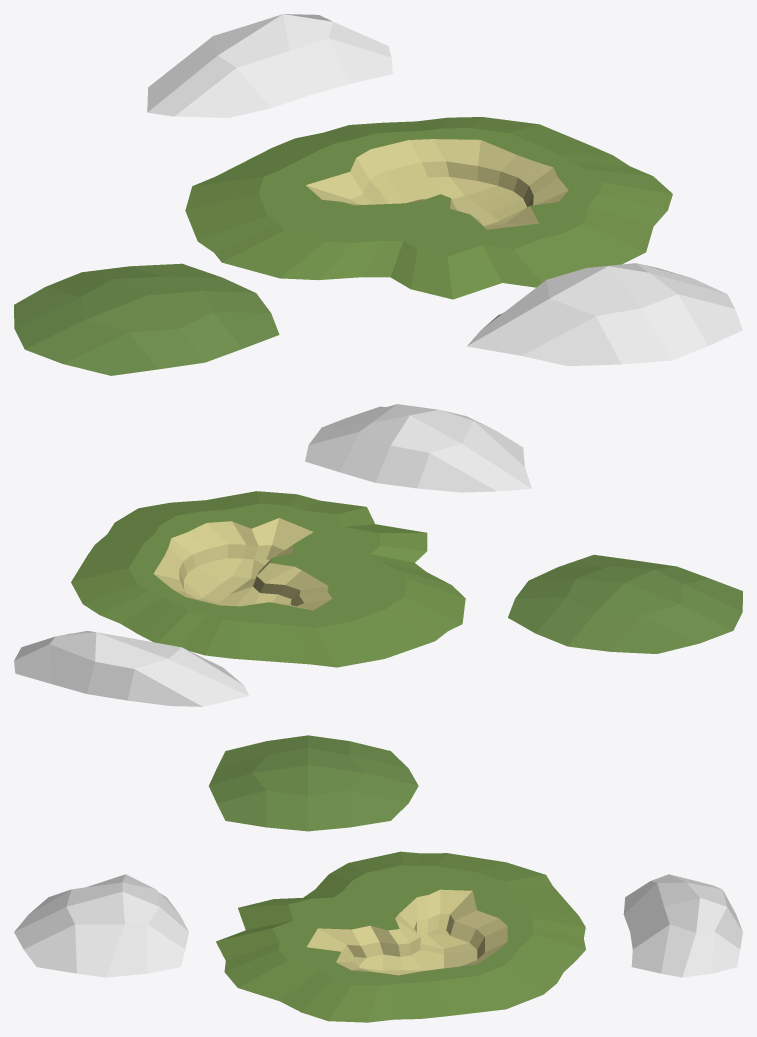
File: pond.fbx
3 views of the same model, one above another, from view 1: azimuth 30°, elevation 25°; view 2: azimuth 150°, elevation 25°; view 3: azimuth 270°, elevation 25° (orthographic). The views are drawn at different scales.
Visible parts, largest first — view 1: pond, groundE1, groundE3, groundE2; view 2: pond, groundE1, groundE3, groundE2; view 3: pond, groundE1, groundE3, groundE2.
Part boxes in pixels (x1,y1,x2,y2): pond: (185, 117, 672, 299); groundE1: (14, 263, 279, 375); groundE3: (467, 263, 742, 366); groundE2: (147, 14, 392, 117); pond: (71, 491, 465, 667); groundE1: (508, 554, 742, 653); groundE3: (305, 404, 531, 492); groundE2: (14, 630, 248, 706); pond: (216, 851, 585, 1022); groundE1: (209, 735, 418, 831); groundE3: (14, 874, 188, 977); groundE2: (623, 874, 742, 977).
Size of the model in its own units: 435 by 49.65 by 486.
